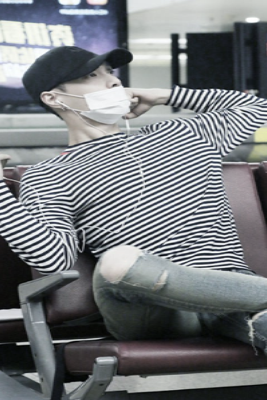mask_weared_incorrect: (61, 67, 130, 121)
